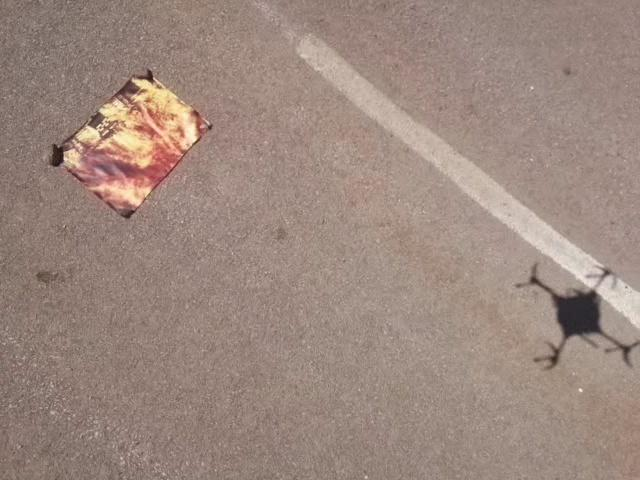fire-poster: (49, 67, 213, 221)
